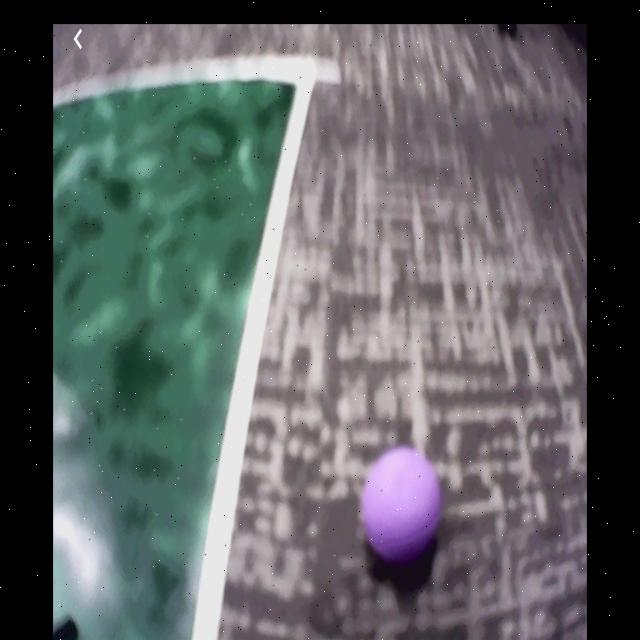ball: (364, 447, 443, 572)
